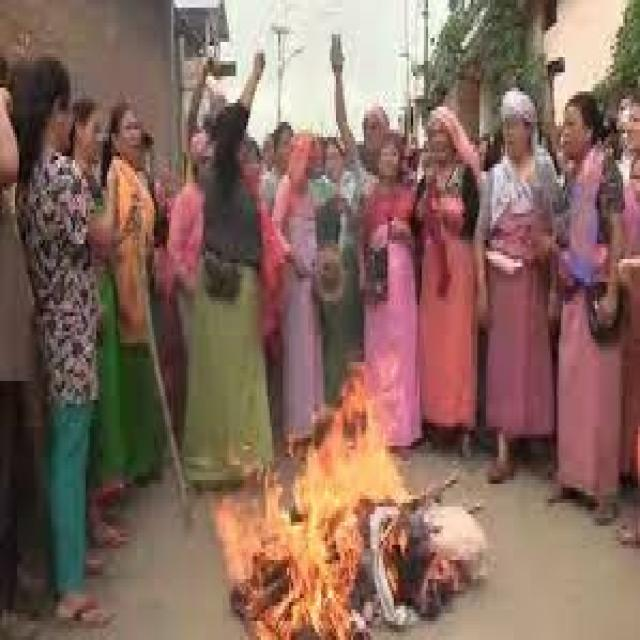fire: (214, 358, 411, 640)
